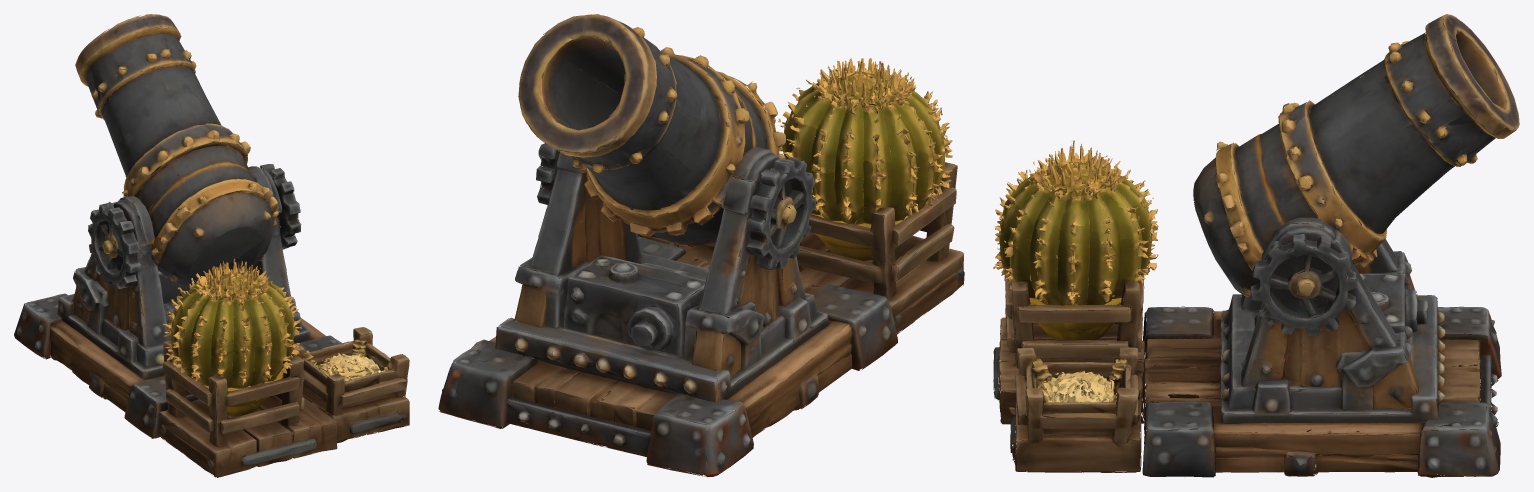
Rendered from siege_mortar.glb.
3 views of the same model, side by side, from view 1: azimuth 30°, elevation 25°; view 2: azimuth 150°, elevation 25°; view 3: azimuth 270°, elevation 25° (orthographic). The views are drawn at different scales.
Visible parts, largest first — view 1: base, swing; view 2: base, swing; view 3: base, swing.
Part boxes in pixels (x1,y1,x2,y2): base: (14,164,409,477); swing: (75,14,281,280); base: (438,58,964,477); swing: (518,14,785,267); base: (993,140,1501,477); swing: (1193,14,1519,311).
Bounding box in the file's own units: 1.32 × 1.8 × 2.16.
1 material, 1 textured.
